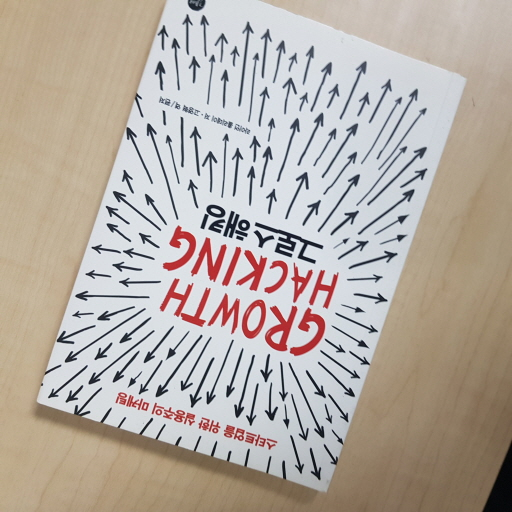Paper_0: (34, 1, 466, 496)
